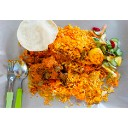briyani: (25, 28, 105, 101)
